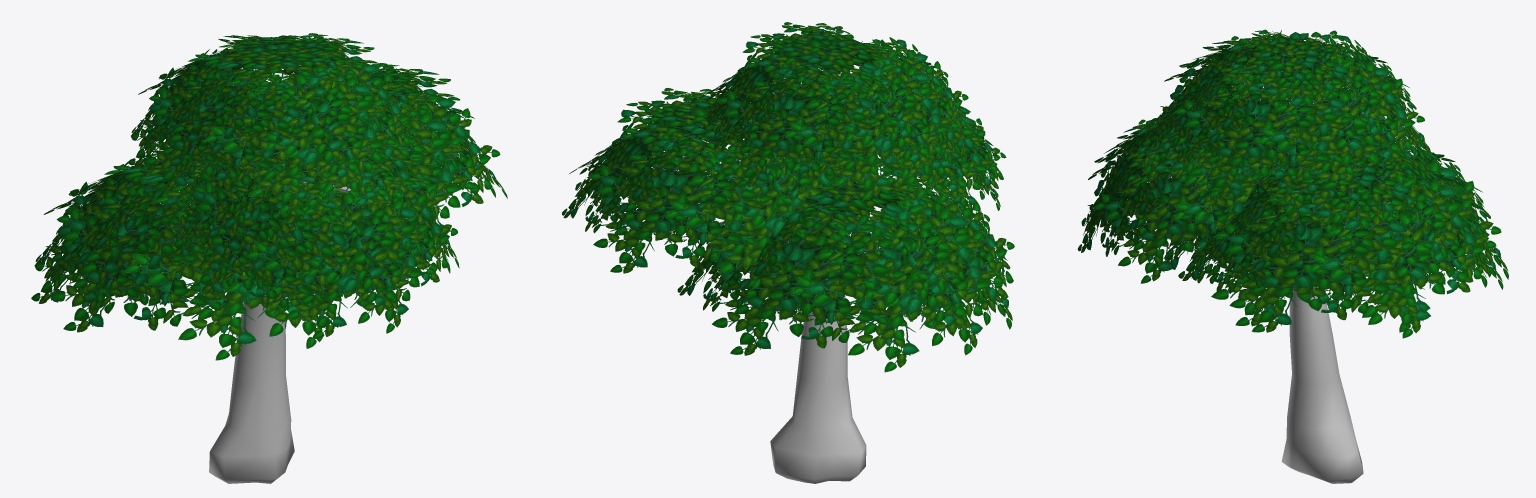
The model's file is tree3.FBX.
3 views of the same model, side by side, from view 1: azimuth 30°, elevation 25°; view 2: azimuth 150°, elevation 25°; view 3: azimuth 270°, elevation 25° (orthographic). The views are drawn at different scales.
Visible parts, largest first — view 1: tree2_1, tree2_028, tree2_037, tree2_3, tree2_010, tree2_027, tree2_036, tree2_022, tree2_031, tree2_030, tree2_029, tree2_038 (+15 smaller); view 2: tree2_008, tree2_016, tree2_009, tree2_1, tree2_034, tree2_035, tree2_3, tree2_030, tree2_017, tree2_012, tree2_015, tree2_038 (+11 smaller); view 3: tree2_014, tree2_015, tree2_1, tree2_032, tree2_033, tree2_023, tree2_030, tree2_012, tree2_013, tree2_031, tree2_022, tree2_016 (+12 smaller).
Part boxes in pixels (left/top/right/bottom): tree2_1: left=209, top=181, right=350, bottom=483; tree2_028: left=246, top=184, right=435, bottom=338; tree2_037: left=204, top=65, right=396, bottom=213; tree2_3: left=31, top=165, right=191, bottom=314; tree2_010: left=50, top=180, right=233, bottom=332; tree2_027: left=181, top=176, right=347, bottom=308; tree2_036: left=143, top=66, right=303, bottom=190; tree2_022: left=307, top=169, right=457, bottom=333; tree2_031: left=265, top=55, right=418, bottom=204; tree2_030: left=188, top=33, right=382, bottom=93; tree2_029: left=169, top=160, right=309, bottom=289; tree2_038: left=128, top=53, right=262, bottom=175; tree2_008: left=711, top=204, right=905, bottom=355; tree2_016: left=588, top=134, right=771, bottom=273; tree2_009: left=790, top=198, right=1004, bottom=372; tree2_1: left=666, top=151, right=866, bottom=483; tree2_034: left=716, top=63, right=879, bottom=186; tree2_035: left=785, top=58, right=959, bottom=200; tree2_3: left=861, top=185, right=1014, bottom=355; tree2_030: left=742, top=22, right=905, bottom=90; tree2_017: left=665, top=145, right=842, bottom=288; tree2_012: left=617, top=88, right=767, bottom=164; tree2_015: left=562, top=122, right=687, bottom=233; tree2_038: left=843, top=48, right=968, bottom=186; tree2_014: left=1213, top=188, right=1414, bottom=332; tree2_015: left=1309, top=173, right=1496, bottom=338; tree2_1: left=1281, top=286, right=1363, bottom=483; tree2_032: left=1173, top=68, right=1352, bottom=197; tree2_033: left=1258, top=56, right=1424, bottom=183; tree2_023: left=1093, top=140, right=1260, bottom=283; tree2_030: left=1221, top=29, right=1362, bottom=108; tree2_012: left=1266, top=145, right=1426, bottom=232; tree2_013: left=1178, top=164, right=1316, bottom=293; tree2_031: left=1142, top=48, right=1265, bottom=162; tree2_022: left=1077, top=129, right=1169, bottom=256; tree2_016: left=1380, top=150, right=1503, bottom=289.
Size of the model in its own units: 298 by 269 by 260.
